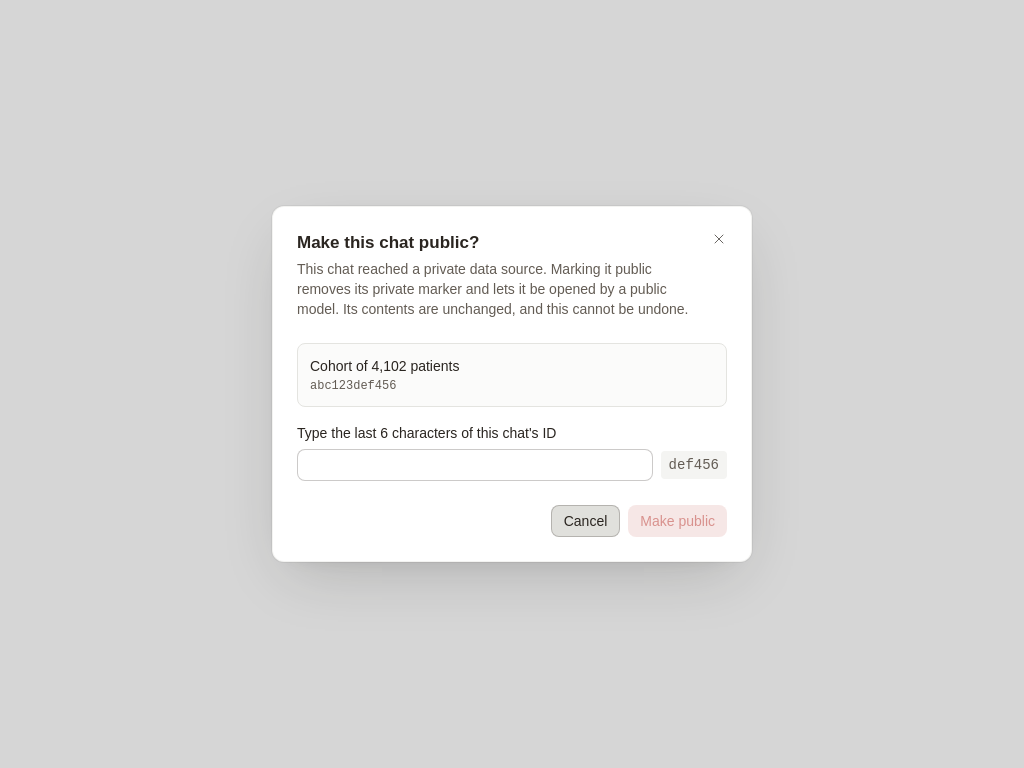
it: DeclassifySessionDialog › the phrase gate is real, not decorative
Type "ef45" into the field labelled "Type the last 6 characters of this chat's ID".
click(475, 465); type("ef45")  # box [297,449,653,481]
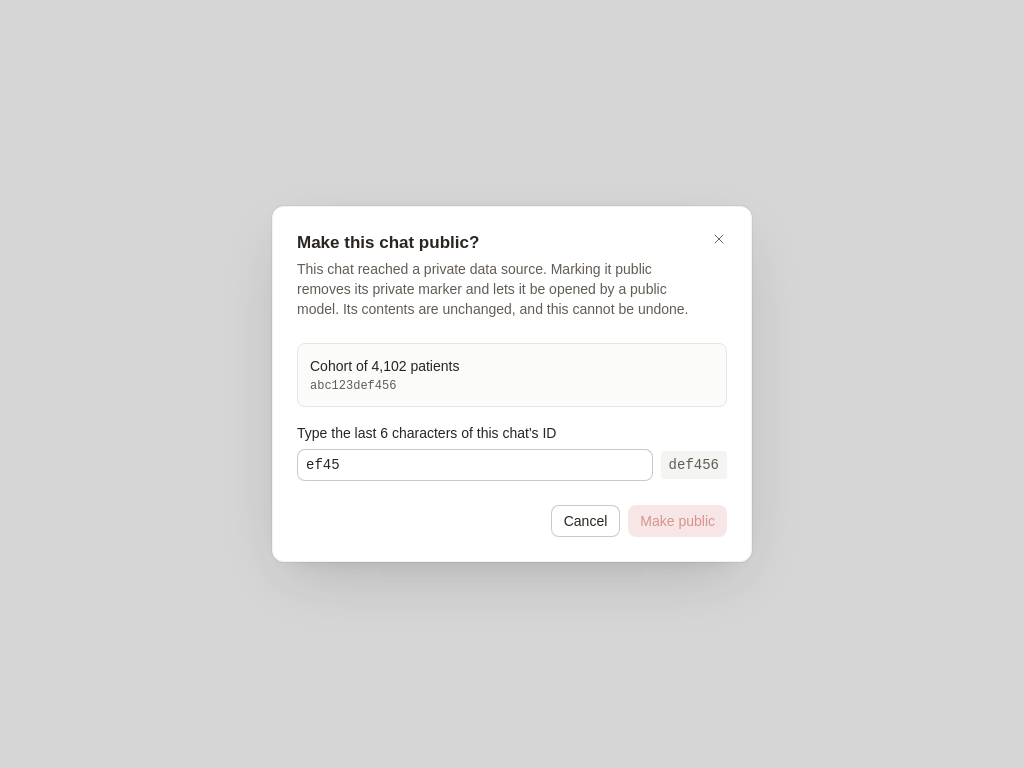
Expected: the button "Make public" is disabled, [628,505,727,537]
Replace the text in the field labelled "Type the last 6 characters of this chat's ID" with "Cohort of 4,102 patients" at (475, 465), box [297,449,653,481]
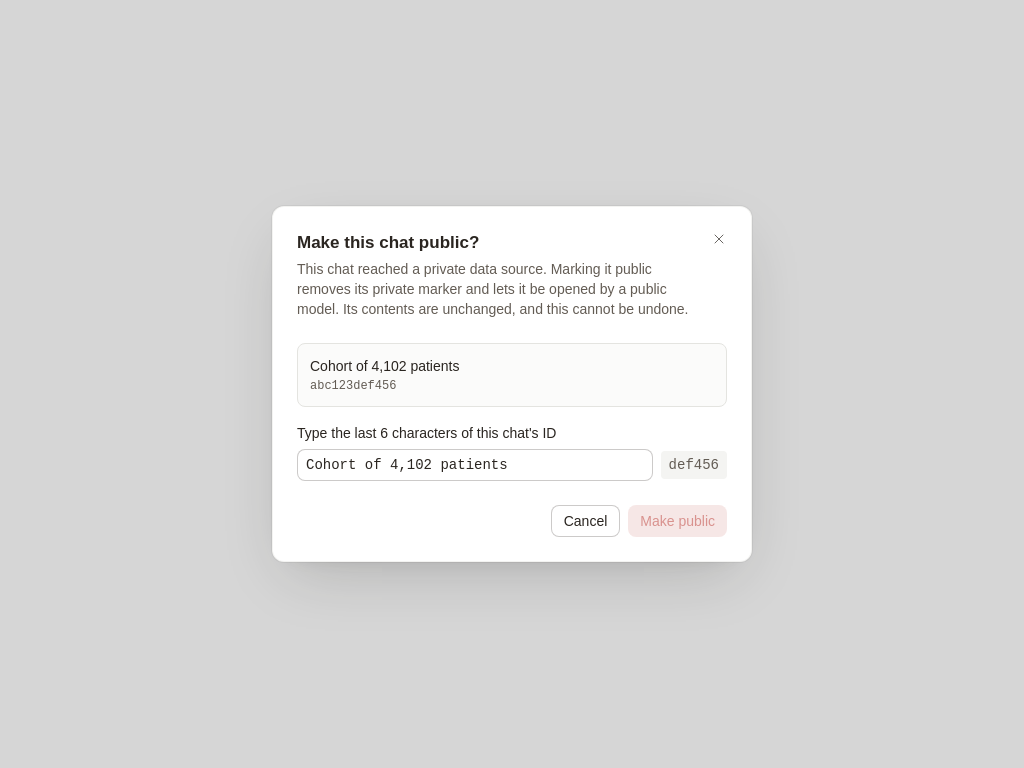
Expected: the button "Make public" is disabled, [628,505,727,537]
Replace the text in the field labelled "Type the last 6 characters of this chat's ID" with "def456" at (475, 465), box [297,449,653,481]
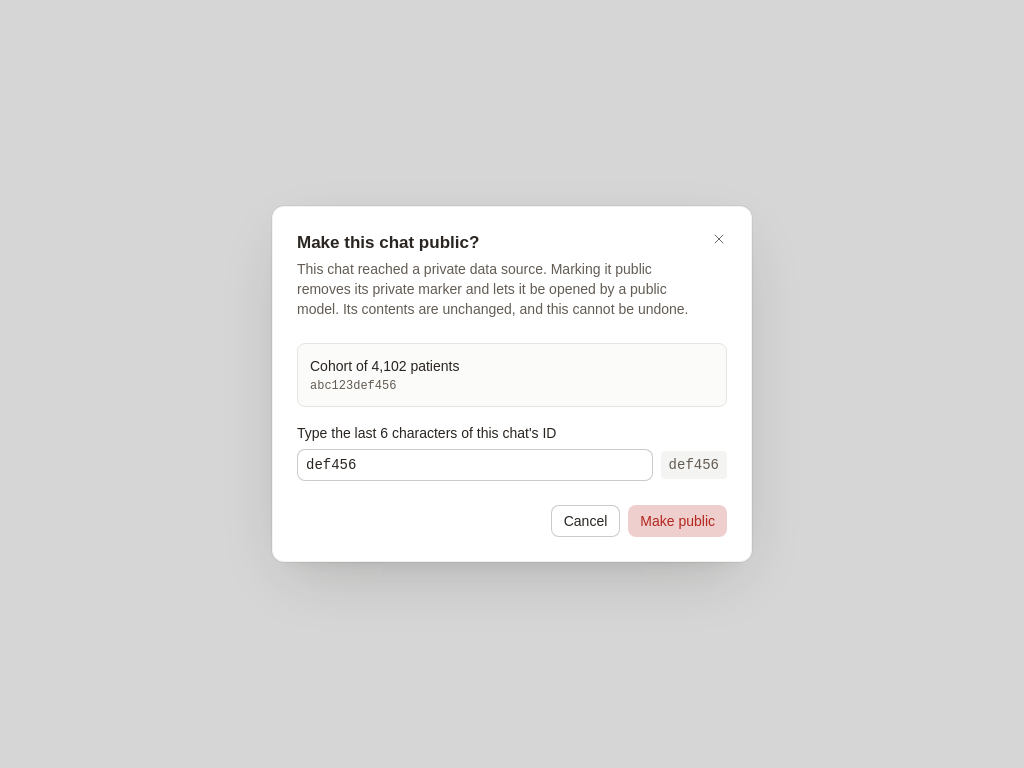
Result: the button "Make public" is enabled at [628,505,727,537]
